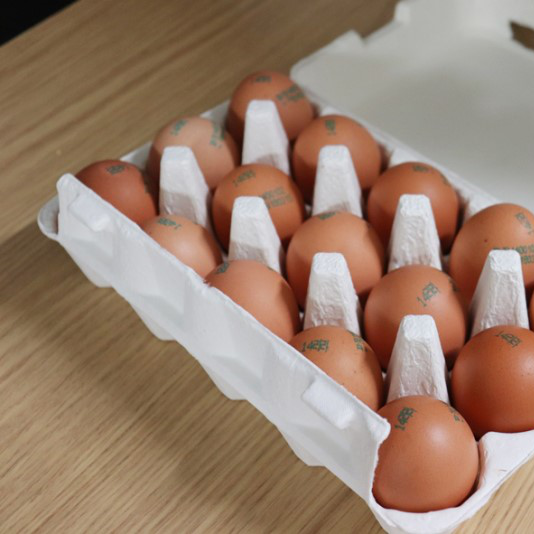egg: (74, 72, 534, 506)
